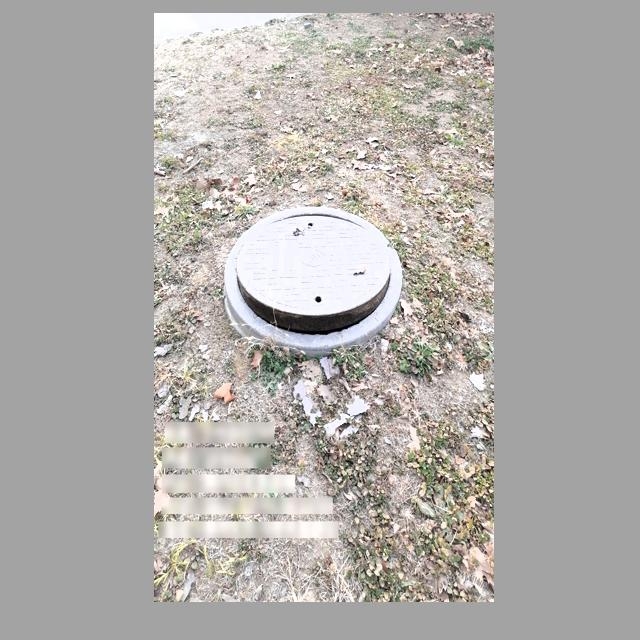uncovered: (224, 206, 401, 359)
